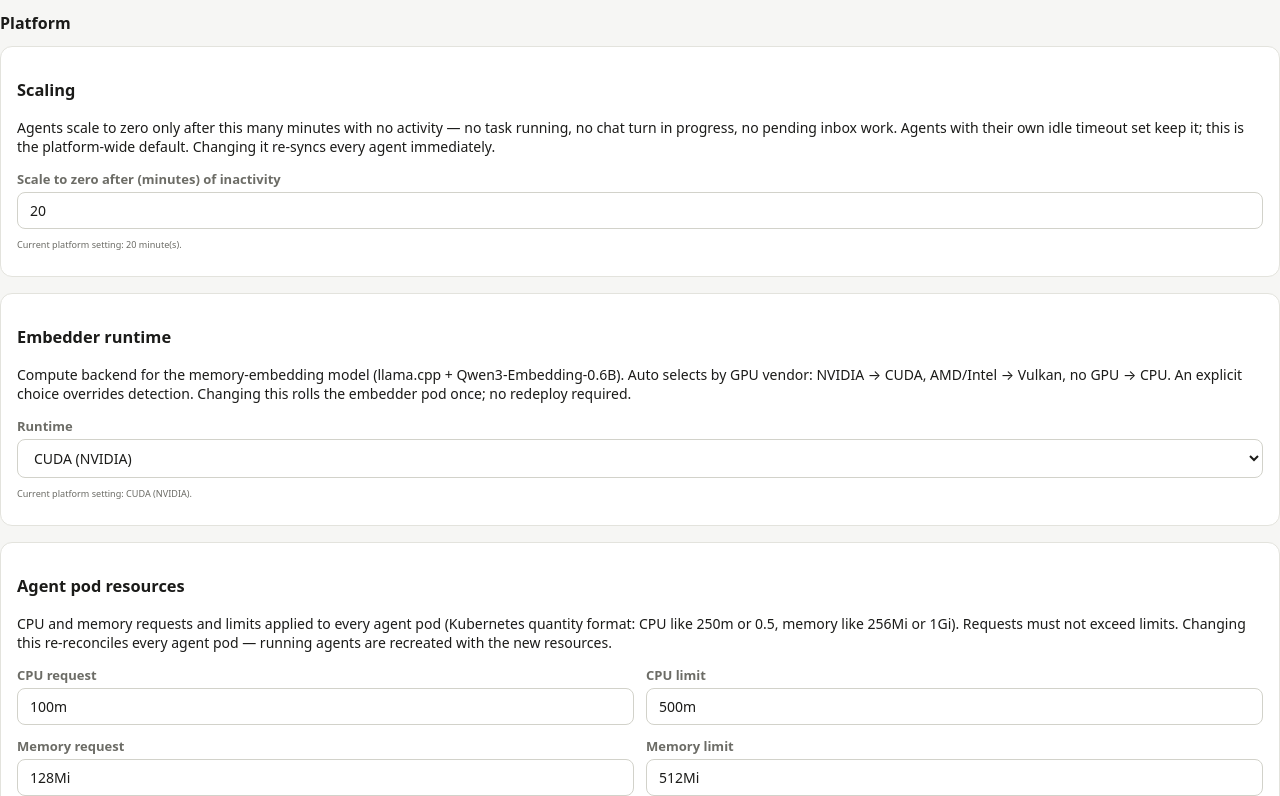
Test: PlatformSettingsTab save › non-ApiError save failure gets the generic message
The width and height of the screenshot is (1280, 796).
Expected: the text "Current platform setting: 20 minute(s)." is shown, x1=17 y1=238 x2=182 y2=251
Replace the text in the field named "Scale to zero after minutes of inactivity" with "90" at (640, 210), box x1=17 y1=192 x2=1263 y2=229
(page scrolled)
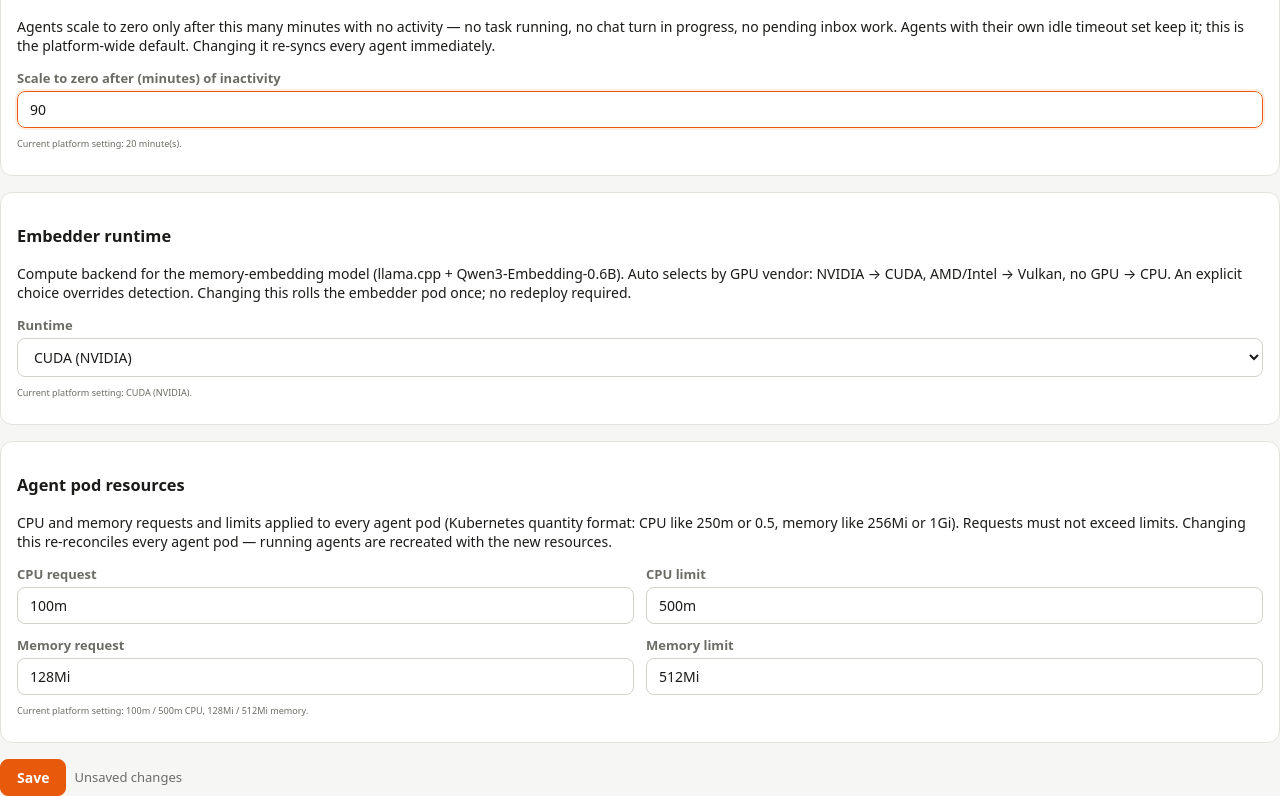
Click the button "Save" at (33, 777), box x1=0 y1=759 x2=66 y2=795
(page scrolled)
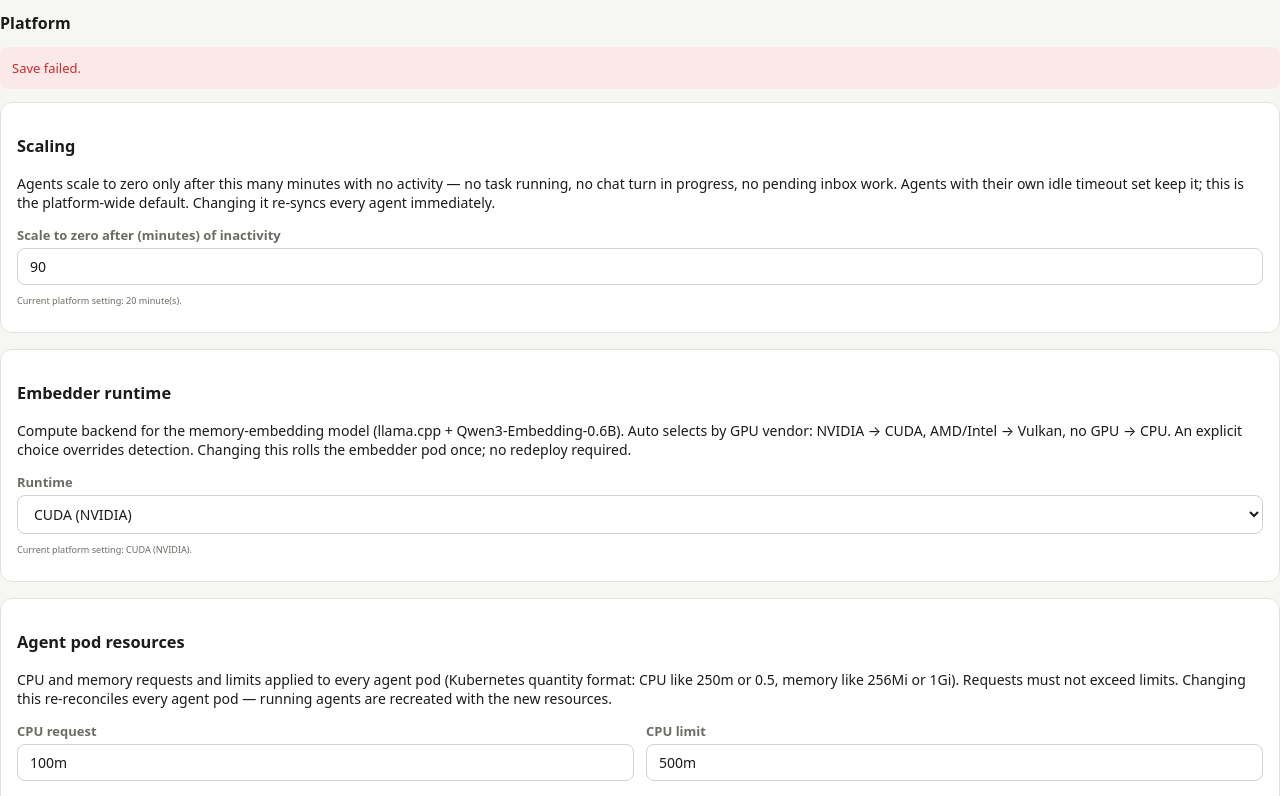
Now the message reads "Save failed.", box x1=12 y1=59 x2=81 y2=77
